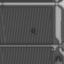dust: (31, 27, 36, 33)
